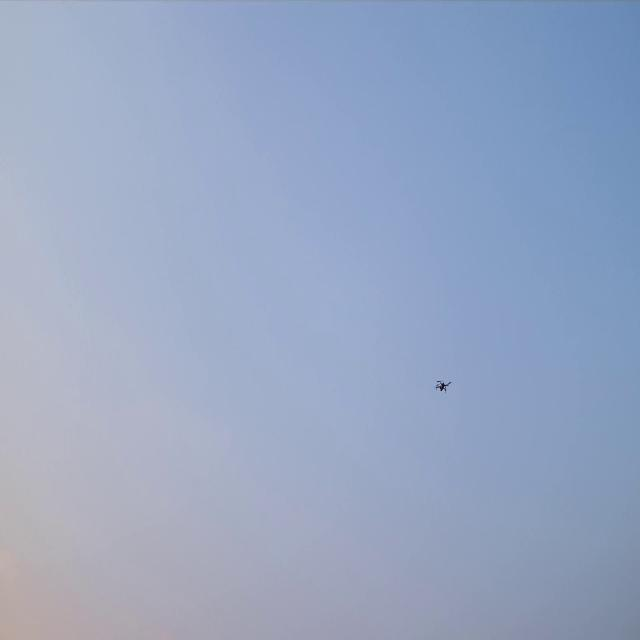UAV: (436, 380, 450, 390)
